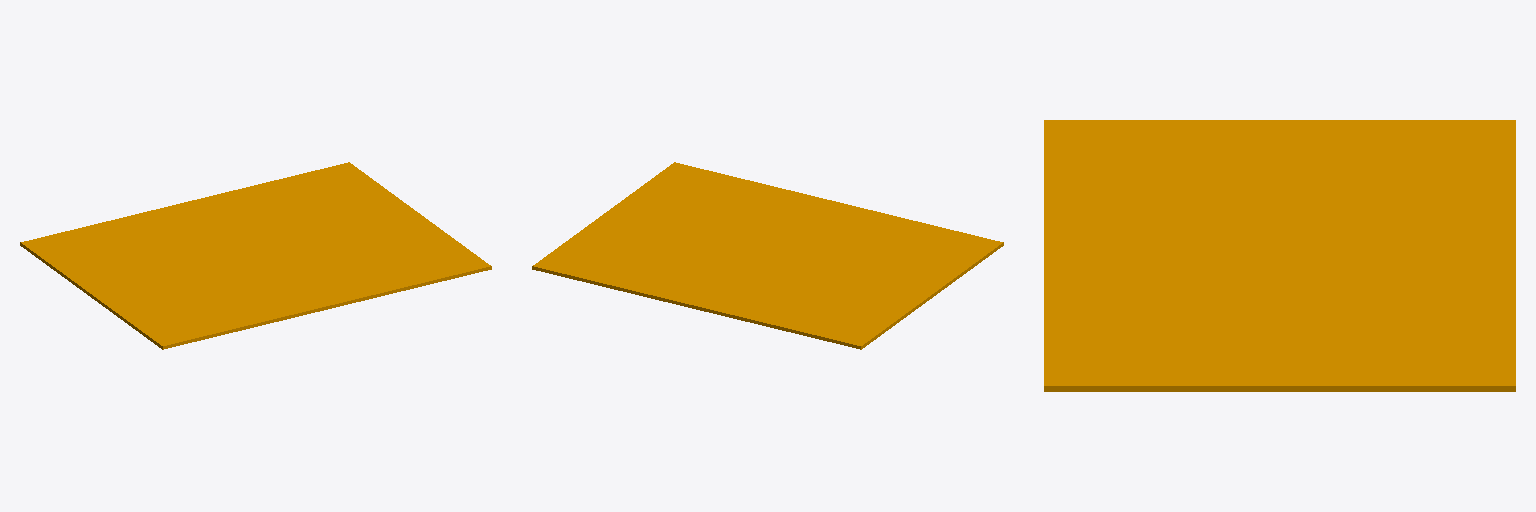
robot.urdf — table:
<?xml version="1.0" ?>
<robot name="table">
  <link name="baseLink">
    <contact>
      <lateral_friction value="1.0"/>
      <rolling_friction value="0.0"/>
      <contact_cfm value="0.0"/>
      <contact_erp value="1.0"/>
    </contact>
    <inertial>
      <origin rpy="0 0 0" xyz="0 0 0"/>
       <mass value="1.0"/>
       <inertia ixx="1" ixy="0" ixz="0" iyy="1" iyz="0" izz="1"/>
    </inertial>
    <visual>
      <origin rpy="1.5708 0 0" xyz="0 0 0"/>
      <geometry>
				<mesh filename="table1.obj" scale="0.47 0.47 0.47"/>
      </geometry>
    </visual>
    <collision>
      <origin rpy="1.5708 0 0" xyz="0 0 0"/>
      <geometry>
	 	    <mesh filename="table1.obj" scale="0.47 0.47 0.47"/>
      </geometry>
    </collision>
  </link>
</robot>

--- What the picture shows (computed from the rendered views, not written in the file) ---
The picture shows the robot from 3 angles, left to right: view 1: azimuth 30°, elevation 25°; view 2: azimuth 150°, elevation 25°; view 3: azimuth 270°, elevation 25°; orthographic projection.
Model table with 1 links and 0 joints (none), rooted at baseLink, posed all joints at 0.
Visible links, largest first — view 1: baseLink; view 2: baseLink; view 3: baseLink.
Link boxes in pixels (x1,y1,x2,y2): baseLink: (20, 162, 491, 349); baseLink: (532, 162, 1003, 349); baseLink: (1044, 120, 1515, 391).
Bounding box of the posed robot: 0.9701 × 0.7257 × 0.0094 m (x, y, z).
Meshes: 1 distinct files referenced, 1 mesh visuals loaded (1 OBJ).